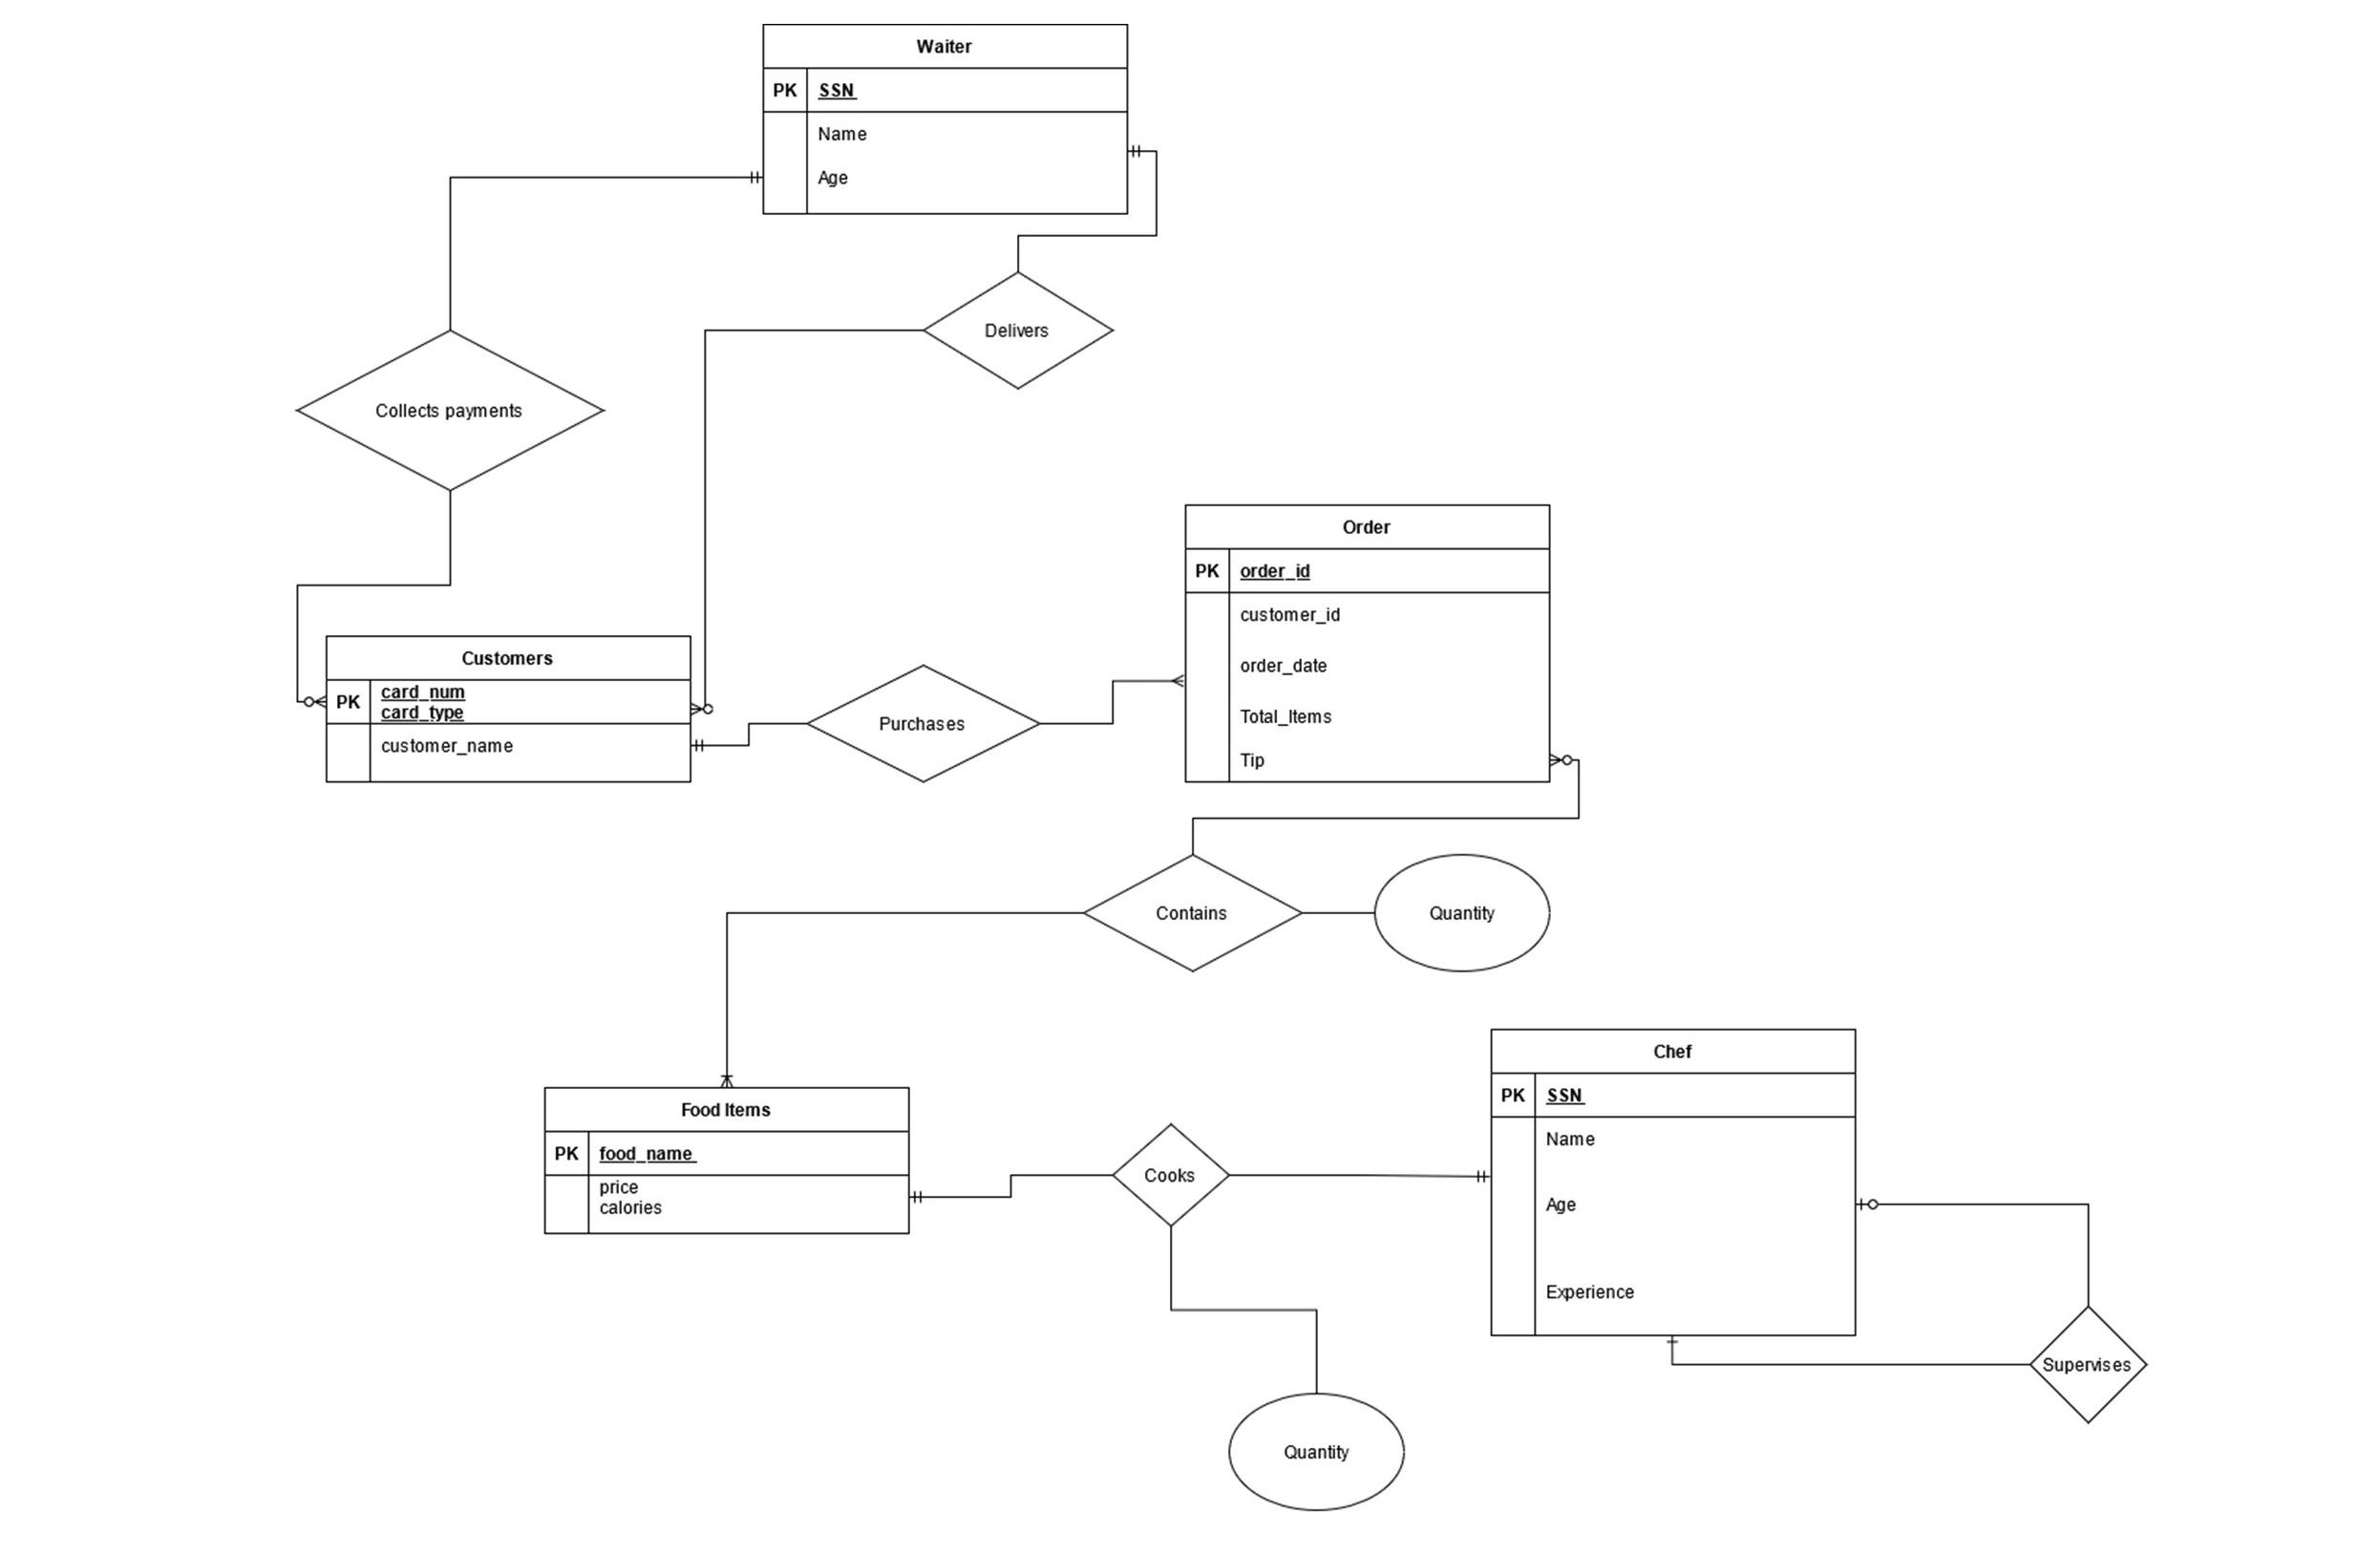Attribute: (1226, 1391, 1404, 1507), (1375, 853, 1548, 972)
Entity: (1483, 1021, 1861, 1341), (1179, 504, 1554, 787), (759, 17, 1132, 222), (540, 1082, 911, 1240), (321, 630, 693, 787)
Relationship: (295, 332, 608, 485), (807, 663, 1038, 781), (1085, 856, 1304, 972), (927, 274, 1111, 392), (2031, 1304, 2147, 1427), (1116, 1124, 1229, 1226)
